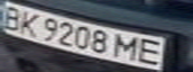0: (72, 24, 93, 52)
2: (54, 19, 75, 48)
8: (90, 27, 115, 55)
9: (36, 15, 60, 43)
B: (0, 3, 27, 32)
E: (133, 37, 172, 66)
K: (15, 9, 45, 37)
M: (112, 33, 145, 62)
